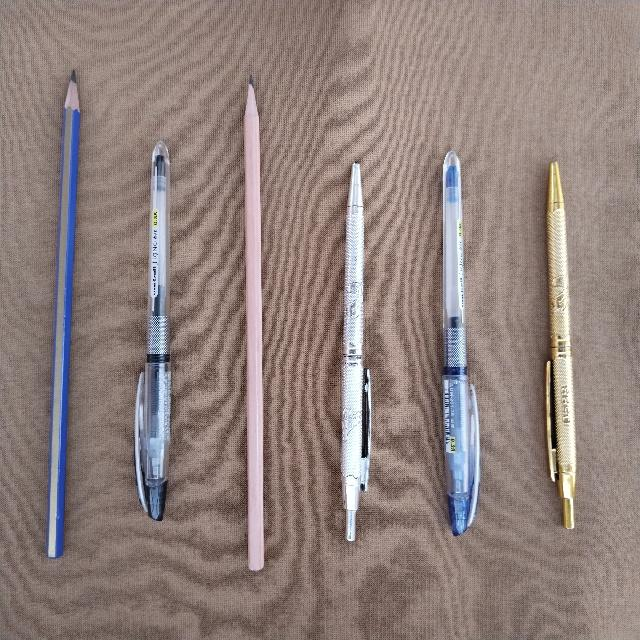pen: (443, 151, 479, 535), (135, 141, 170, 520)
pencil: (46, 71, 79, 557), (244, 78, 263, 570)
signature pen: (341, 163, 370, 540), (546, 162, 575, 528)
